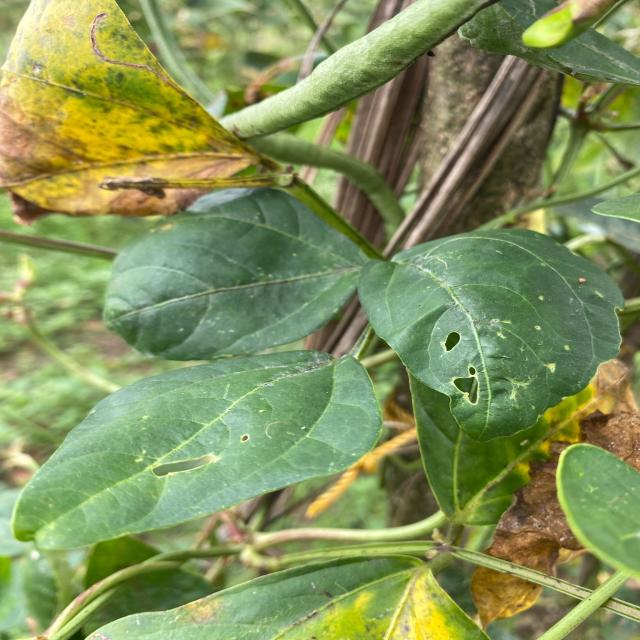10: (221, 0, 567, 138)
leaf-low: (104, 188, 368, 361)
leaf-moderate: (0, 0, 360, 240)
sitaw-aphid-high: (12, 351, 382, 549), (358, 230, 624, 441), (87, 543, 489, 640)
